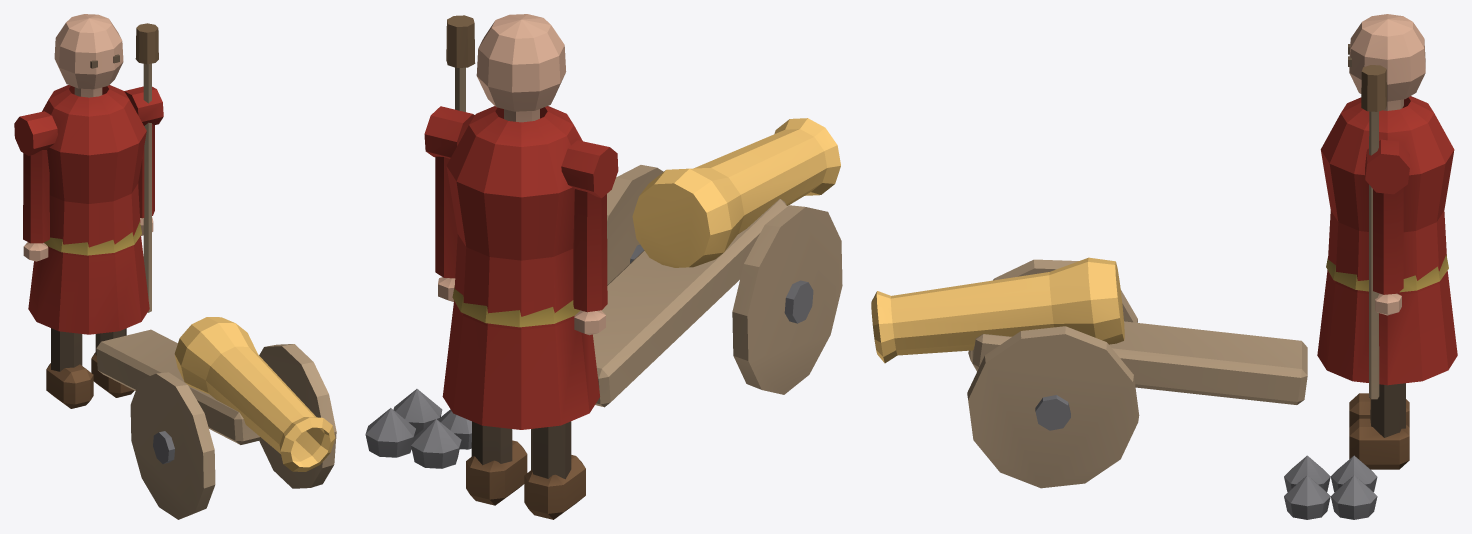
Rendered from unit_pushka.glb.
3 renders of one model, left to right at view 1: azimuth 30°, elevation 25°; view 2: azimuth 150°, elevation 25°; view 3: azimuth 270°, elevation 25°, orthographic. The views are drawn at different scales.
Visible parts, largest first — view 1: unit_pushka; view 2: unit_pushka; view 3: unit_pushka.
Boxes of the visible parts, <box> form: unit_pushka: <box>14,14,336,519</box>; unit_pushka: <box>365,14,842,519</box>; unit_pushka: <box>871,14,1457,519</box>.
Size of the model in its own units: 0.41 by 0.715 by 0.8771.
